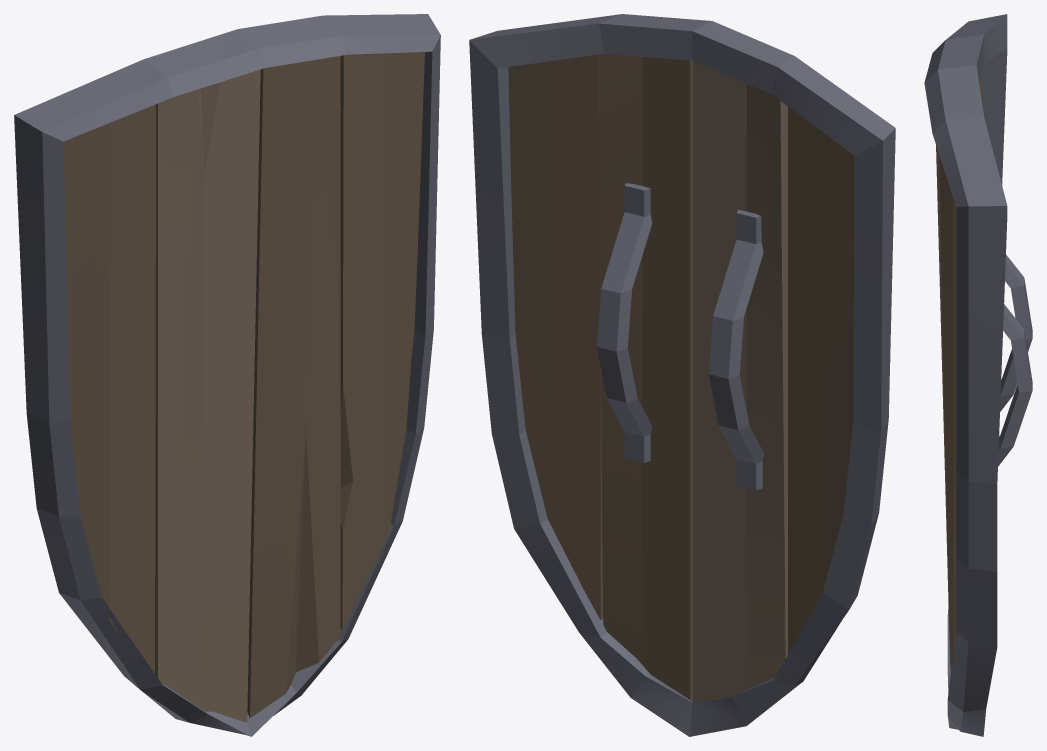
File: _SHIELD_1.fbx
The picture shows the model from 3 angles, left to right: view 1: azimuth 30°, elevation 25°; view 2: azimuth 150°, elevation 25°; view 3: azimuth 270°, elevation 25°; orthographic projection. The views are drawn at different scales.
Visible parts, largest first — view 1: SHIELD_1; view 2: SHIELD_1; view 3: SHIELD_1.
Boxes of the visible parts, bbox=[...] form: SHIELD_1: bbox=[14, 14, 440, 736]; SHIELD_1: bbox=[469, 14, 895, 736]; SHIELD_1: bbox=[924, 14, 1032, 736].
Bounding box in the file's own units: 91.79 × 149 × 21.84.
